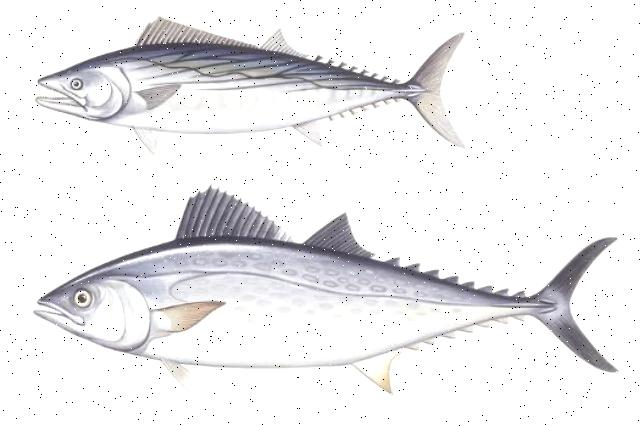Mulut: (25, 58, 73, 124), (26, 287, 62, 339)
Sirip Anal: (355, 340, 411, 404), (291, 118, 335, 152)
Sirip Dada: (142, 301, 238, 339), (129, 78, 187, 110)
Sirip Ekor: (536, 218, 626, 384), (408, 24, 478, 168)
Sirip Perut: (160, 355, 202, 393), (128, 120, 166, 158)
Sirip Punggung: (166, 183, 387, 259), (129, 12, 315, 62)
